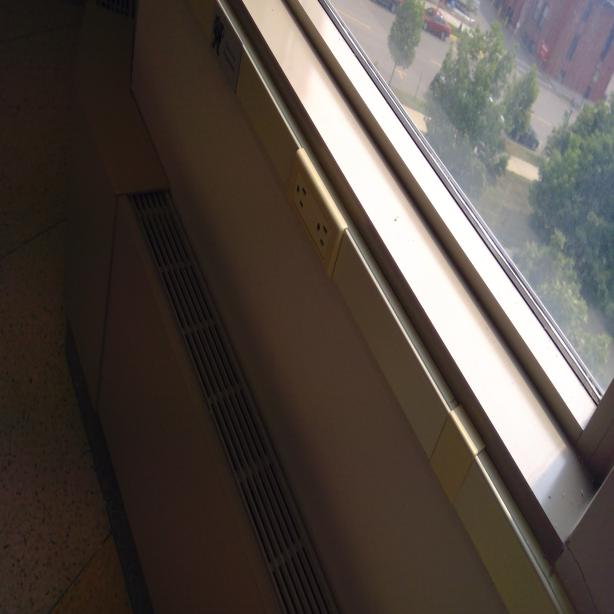typeb: (295, 175, 310, 214), (316, 214, 330, 252)
